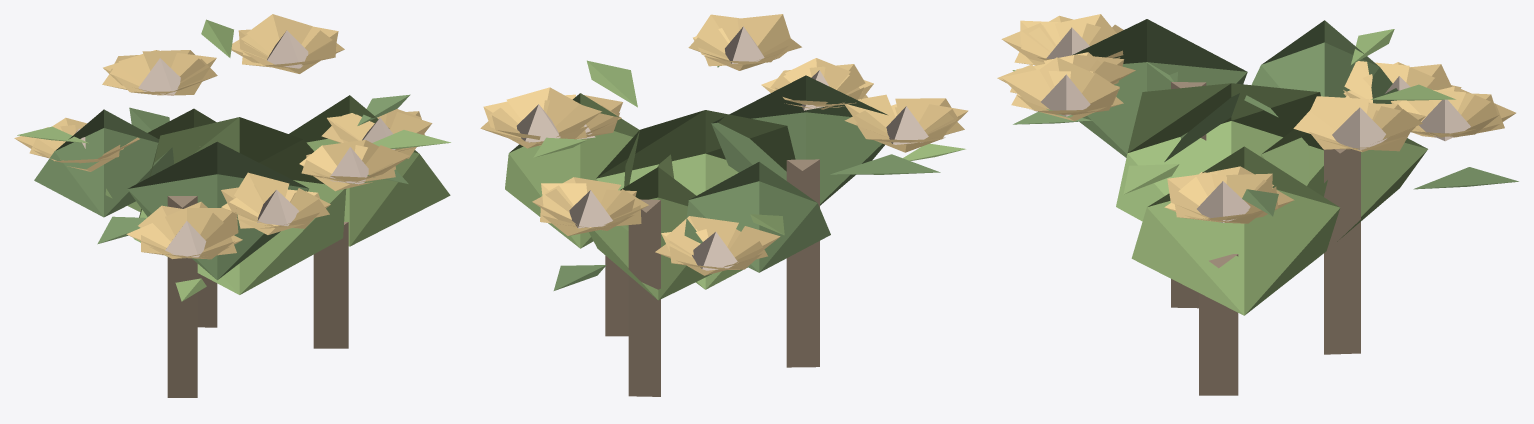
Rendered from hua.ju@flowering__bloom.glb.
3 renders of one model, left to right at view 1: azimuth 30°, elevation 25°; view 2: azimuth 150°, elevation 25°; view 3: azimuth 270°, elevation 25°, orthographic. The views are drawn at different scales.
Visible parts, largest first — view 1: hua.ju@flowering__bloom; view 2: hua.ju@flowering__bloom; view 3: hua.ju@flowering__bloom.
Part boxes in pixels (x1,y1,x2,y2): hua.ju@flowering__bloom: (14, 14, 450, 397); hua.ju@flowering__bloom: (480, 14, 968, 396); hua.ju@flowering__bloom: (997, 14, 1518, 395).
Size of the model in its own units: 1.24 by 0.8611 by 1.34.
